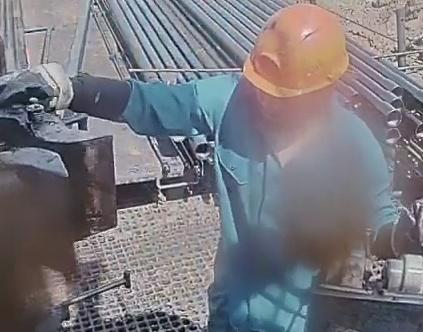gloves: (1, 62, 68, 114), (393, 198, 423, 258)
helmet: (242, 2, 349, 98)
vest: (210, 81, 382, 332)
